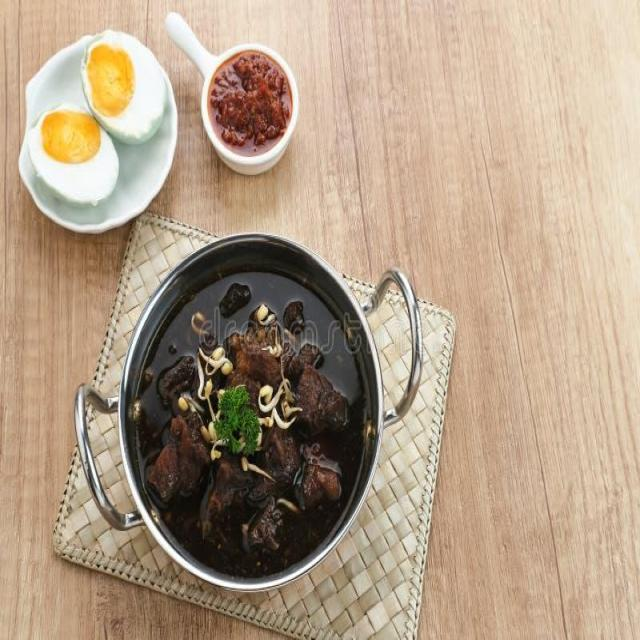Rawon: (115, 275, 381, 572)
